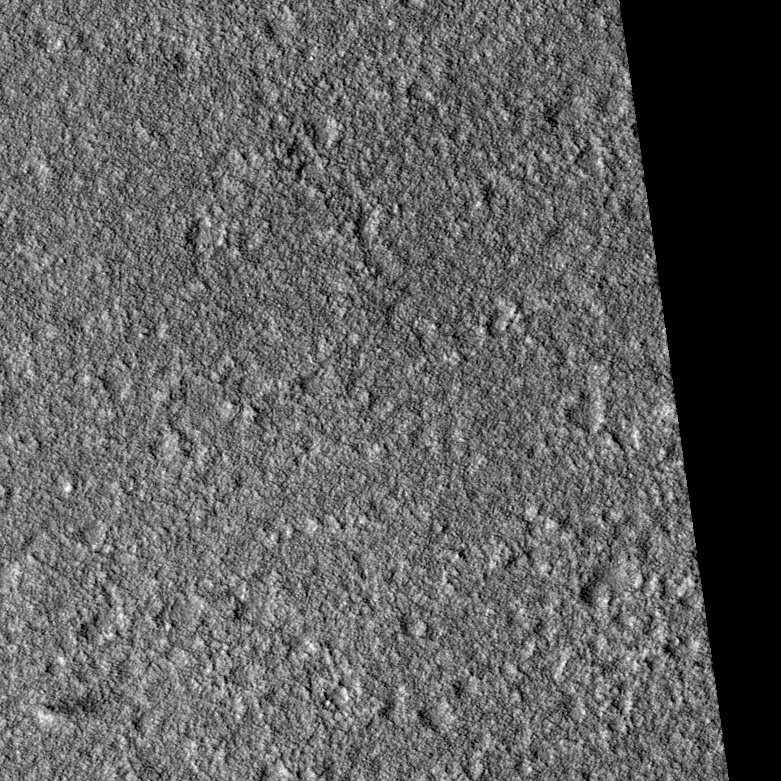dust_devil: (33, 682, 105, 736)
